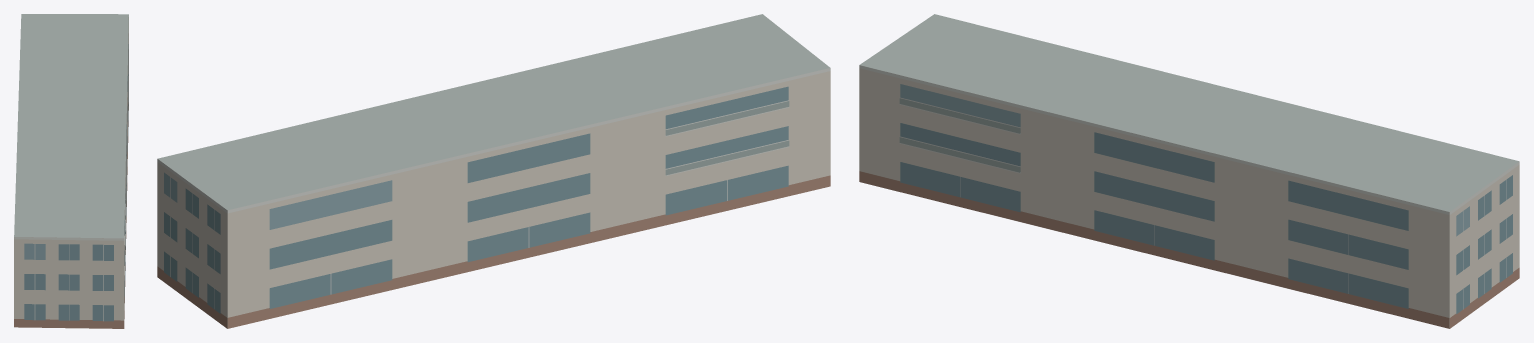
The model's file is survey-upis-32960850.glb.
3 renders of one model, left to right at view 1: azimuth 30°, elevation 25°; view 2: azimuth 150°, elevation 25°; view 3: azimuth 270°, elevation 25°, orthographic. The views are drawn at different scales.
Visible parts, largest first — view 1: survey-upis-32960850.tmp; view 2: survey-upis-32960850.tmp; view 3: survey-upis-32960850.tmp.
Part boxes in pixels (<box>): survey-upis-32960850.tmp: <box>14,14,128,328</box>; survey-upis-32960850.tmp: <box>157,14,830,328</box>; survey-upis-32960850.tmp: <box>859,14,1519,328</box>.
Bounding box in the file's own units: 33.26 × 9.15 × 46.86.
